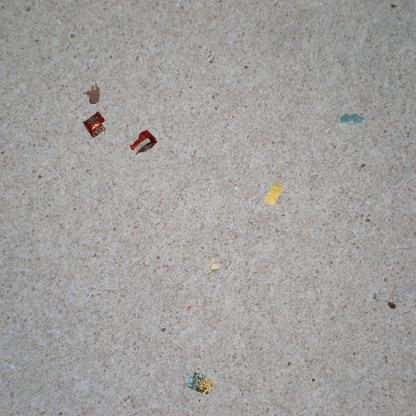dirty: (127, 126, 160, 158), (185, 369, 217, 397), (80, 110, 108, 140), (200, 253, 223, 279), (263, 180, 284, 207)
liquid: (82, 82, 101, 104), (338, 112, 364, 126)
